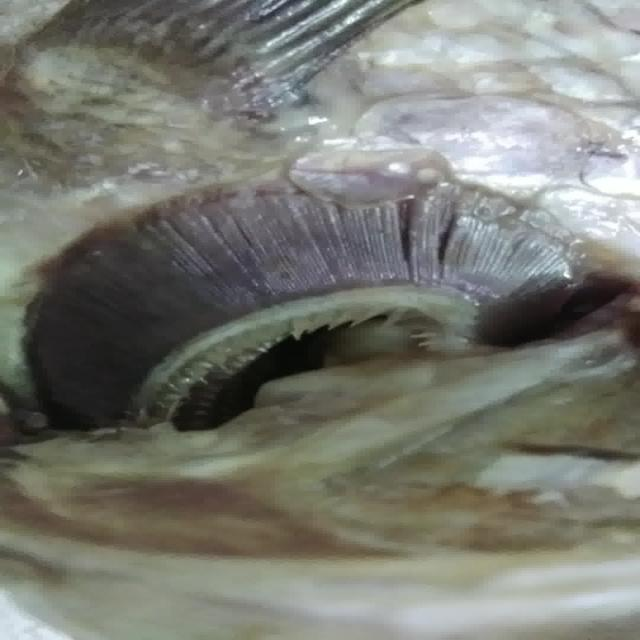Non-Fresh: (29, 167, 594, 409)
